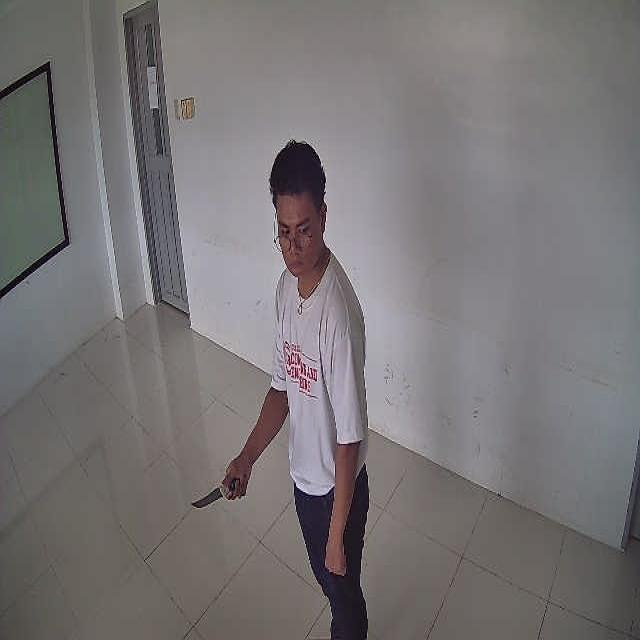knife: (191, 480, 239, 508)
